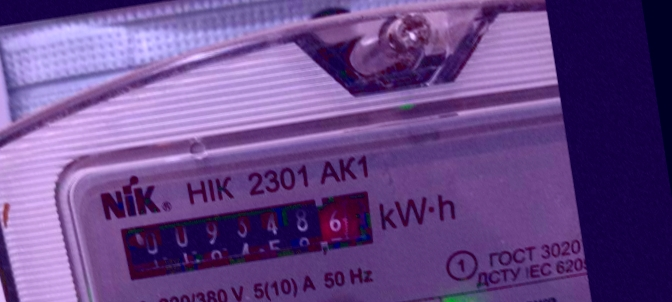0: (170, 222, 189, 247), (141, 227, 157, 254)
3: (230, 212, 248, 239)
4: (260, 207, 278, 236)
6: (322, 204, 343, 233)
8: (290, 203, 309, 233)
9: (200, 217, 219, 245)
screen: (108, 180, 385, 290)
